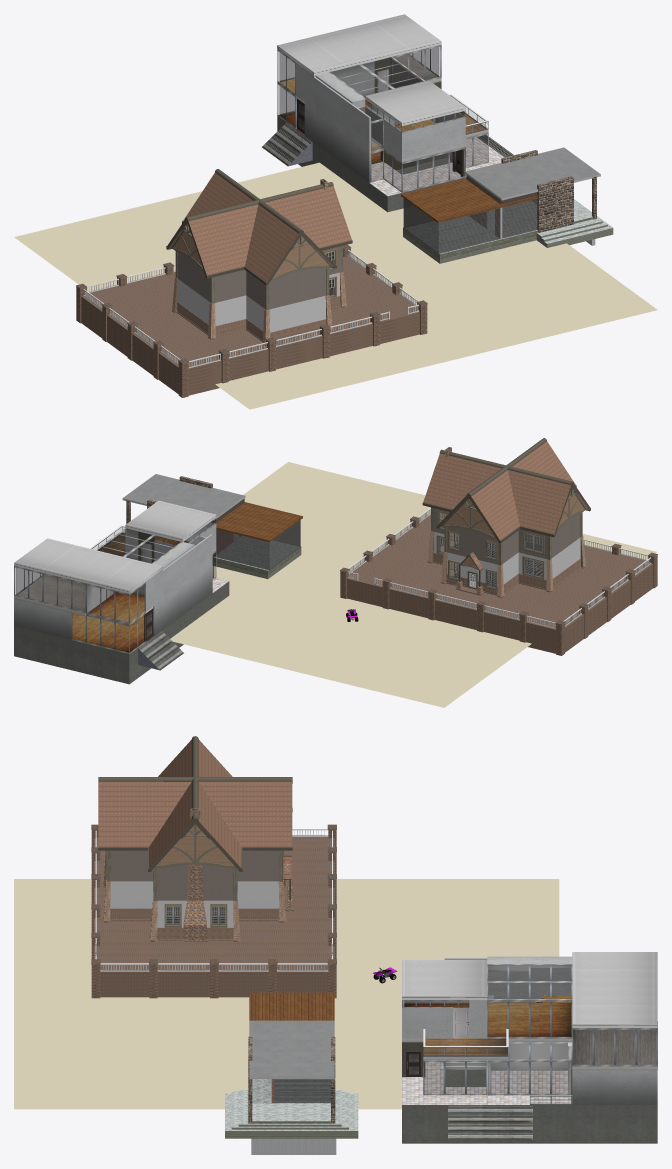
3 views of the same model, one above another, from view 1: azimuth 30°, elevation 25°; view 2: azimuth 150°, elevation 25°; view 3: azimuth 270°, elevation 25° (orthographic). The views are drawn at different scales.
Visible parts, largest first — view 1: Terrain 4,2, Country Cottage, Country Cottage Base, Archer House, roof1, window (×3), wall2, wall3, roof3, window ground floor, base1, large window (+14 smaller); view 2: Terrain 4,2, Country Cottage, Country Cottage Base, Archer House, window side, roof1, base5, wall2, window (×2), roof3, base4, front window upstairs (+13 smaller); view 3: Terrain 4,2, Country Cottage, Country Cottage Base, Archer House, roof1, large window, base3, base2, The Pinto House fx 58p, roof3, window3 ground floor, base4 (+17 smaller).
Part boxes in pixels (x1,y1,x2,y2): Terrain 4,2: [14, 162, 657, 409]; Country Cottage: [166, 169, 352, 346]; Country Cottage Base: [76, 244, 427, 397]; Archer House: [401, 147, 613, 263]; roof1: [277, 14, 441, 75]; window (×3): [403, 192, 537, 253]; wall2: [314, 77, 370, 182]; wall3: [365, 104, 465, 159]; roof3: [365, 80, 465, 125]; window ground floor: [383, 147, 464, 192]; base1: [351, 161, 451, 212]; large window: [328, 56, 424, 98]; Terrain 4,2: [170, 462, 656, 707]; Country Cottage: [422, 438, 590, 597]; Country Cottage Base: [340, 514, 657, 655]; Archer House: [122, 474, 302, 578]; window side: [71, 580, 145, 653]; roof1: [14, 538, 162, 593]; base5: [71, 619, 162, 684]; wall2: [162, 534, 212, 629]; window (×2): [214, 520, 300, 570]; roof3: [125, 500, 216, 541]; base4: [14, 613, 99, 670]; front window upstairs: [14, 565, 71, 609]; Terrain 4,2: [14, 879, 559, 1109]; Country Cottage: [98, 736, 293, 941]; Country Cottage Base: [91, 824, 336, 998]; Archer House: [225, 992, 358, 1138]; roof1: [572, 952, 657, 1027]; large window: [487, 964, 572, 1038]; base3: [487, 1070, 572, 1143]; base2: [402, 1069, 487, 1143]; The Pinto House fx 58p: [402, 995, 532, 1139]; roof3: [402, 960, 487, 999]; window3 ground floor: [508, 1042, 572, 1095]; base4: [572, 1105, 657, 1143].
Size of what is drawn, in the model's own units: 77.49 by 23.11 by 75.58.
Materials: 114 (96 with a texture image).
